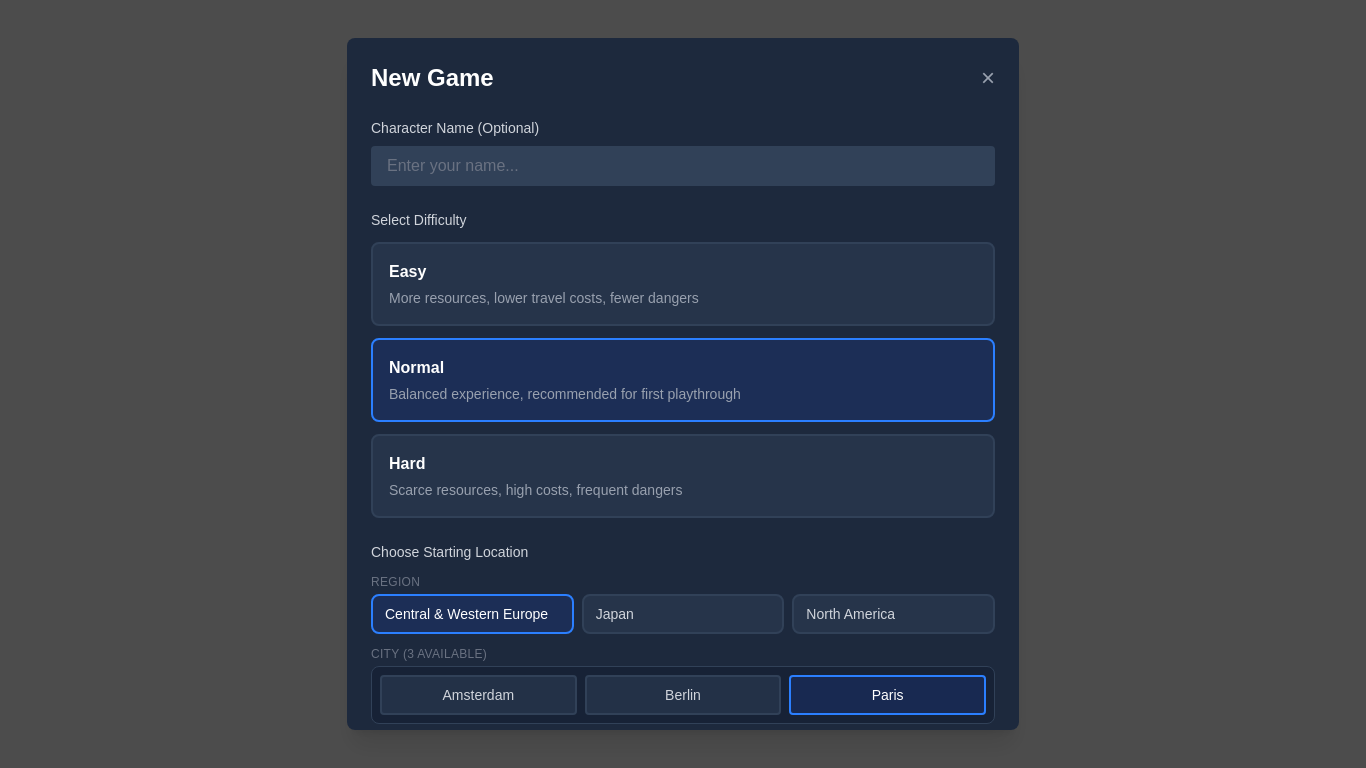
Scenario: NewGameModal › should filter cities when a different region is selected
Click the button "Japan" at (683, 614), box x1=582 y1=594 x2=784 y2=634
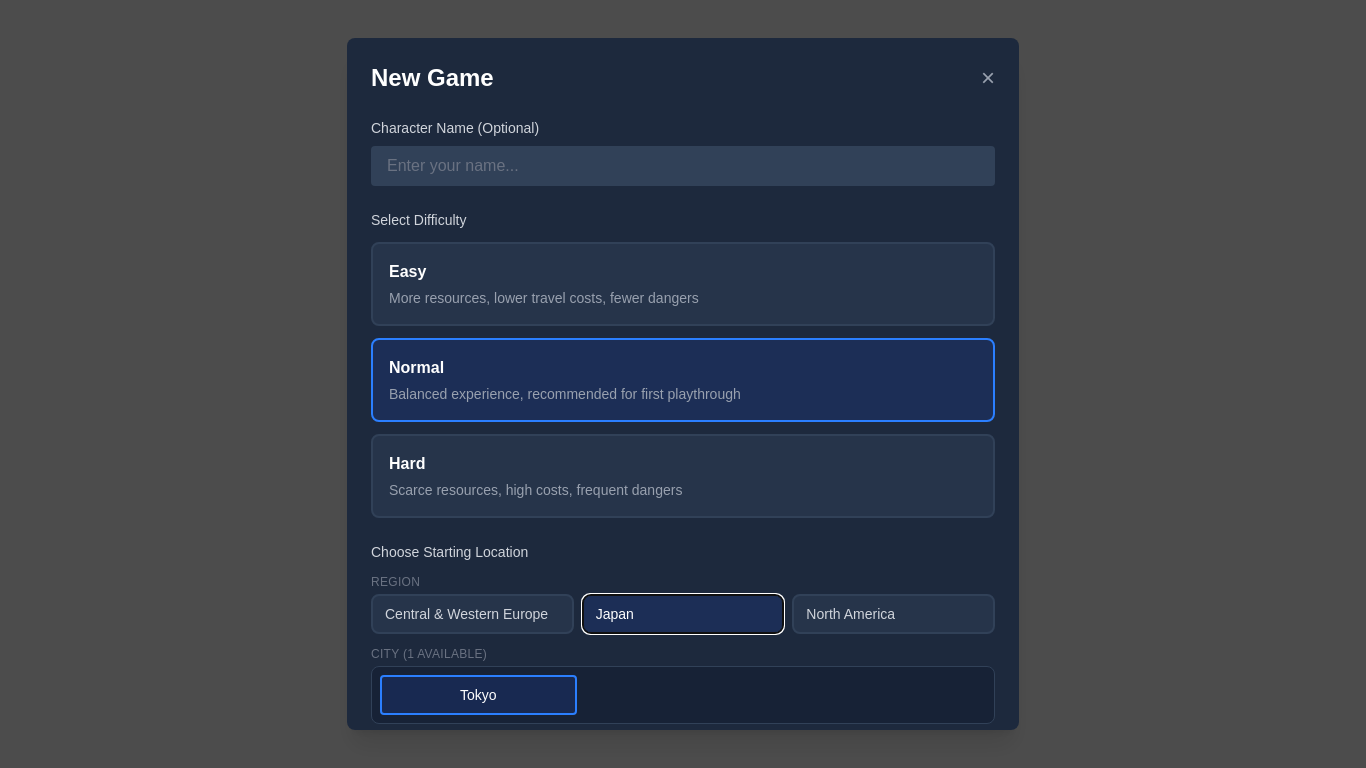
Expected: the button "Tokyo" is shown, x1=380 y1=675 x2=577 y2=715
Expected: the button "Paris" is gone
Expected: the button "Berlin" is gone
